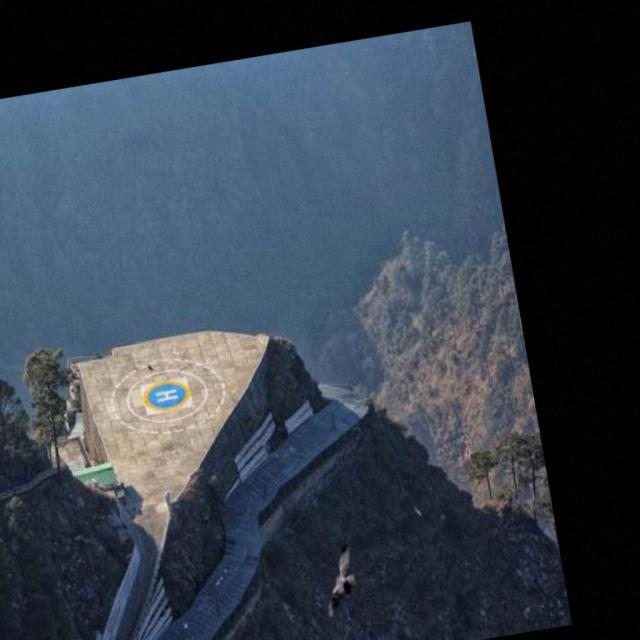helipad: (138, 378, 192, 414)
